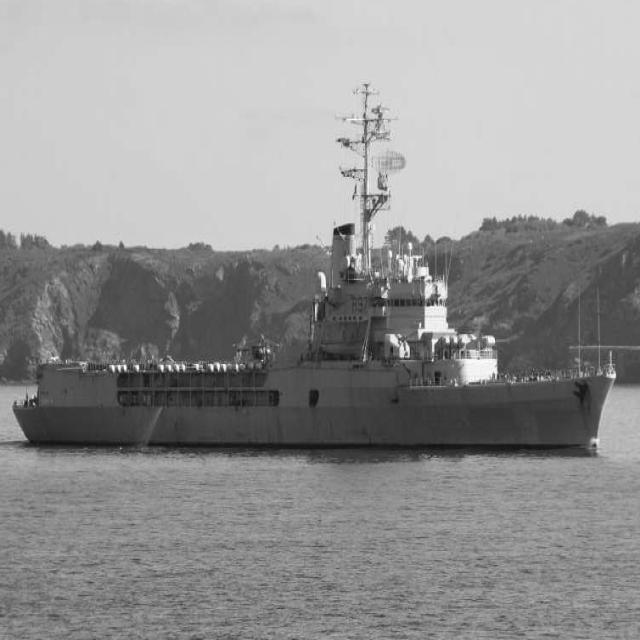Portanaves: (8, 73, 621, 468)
